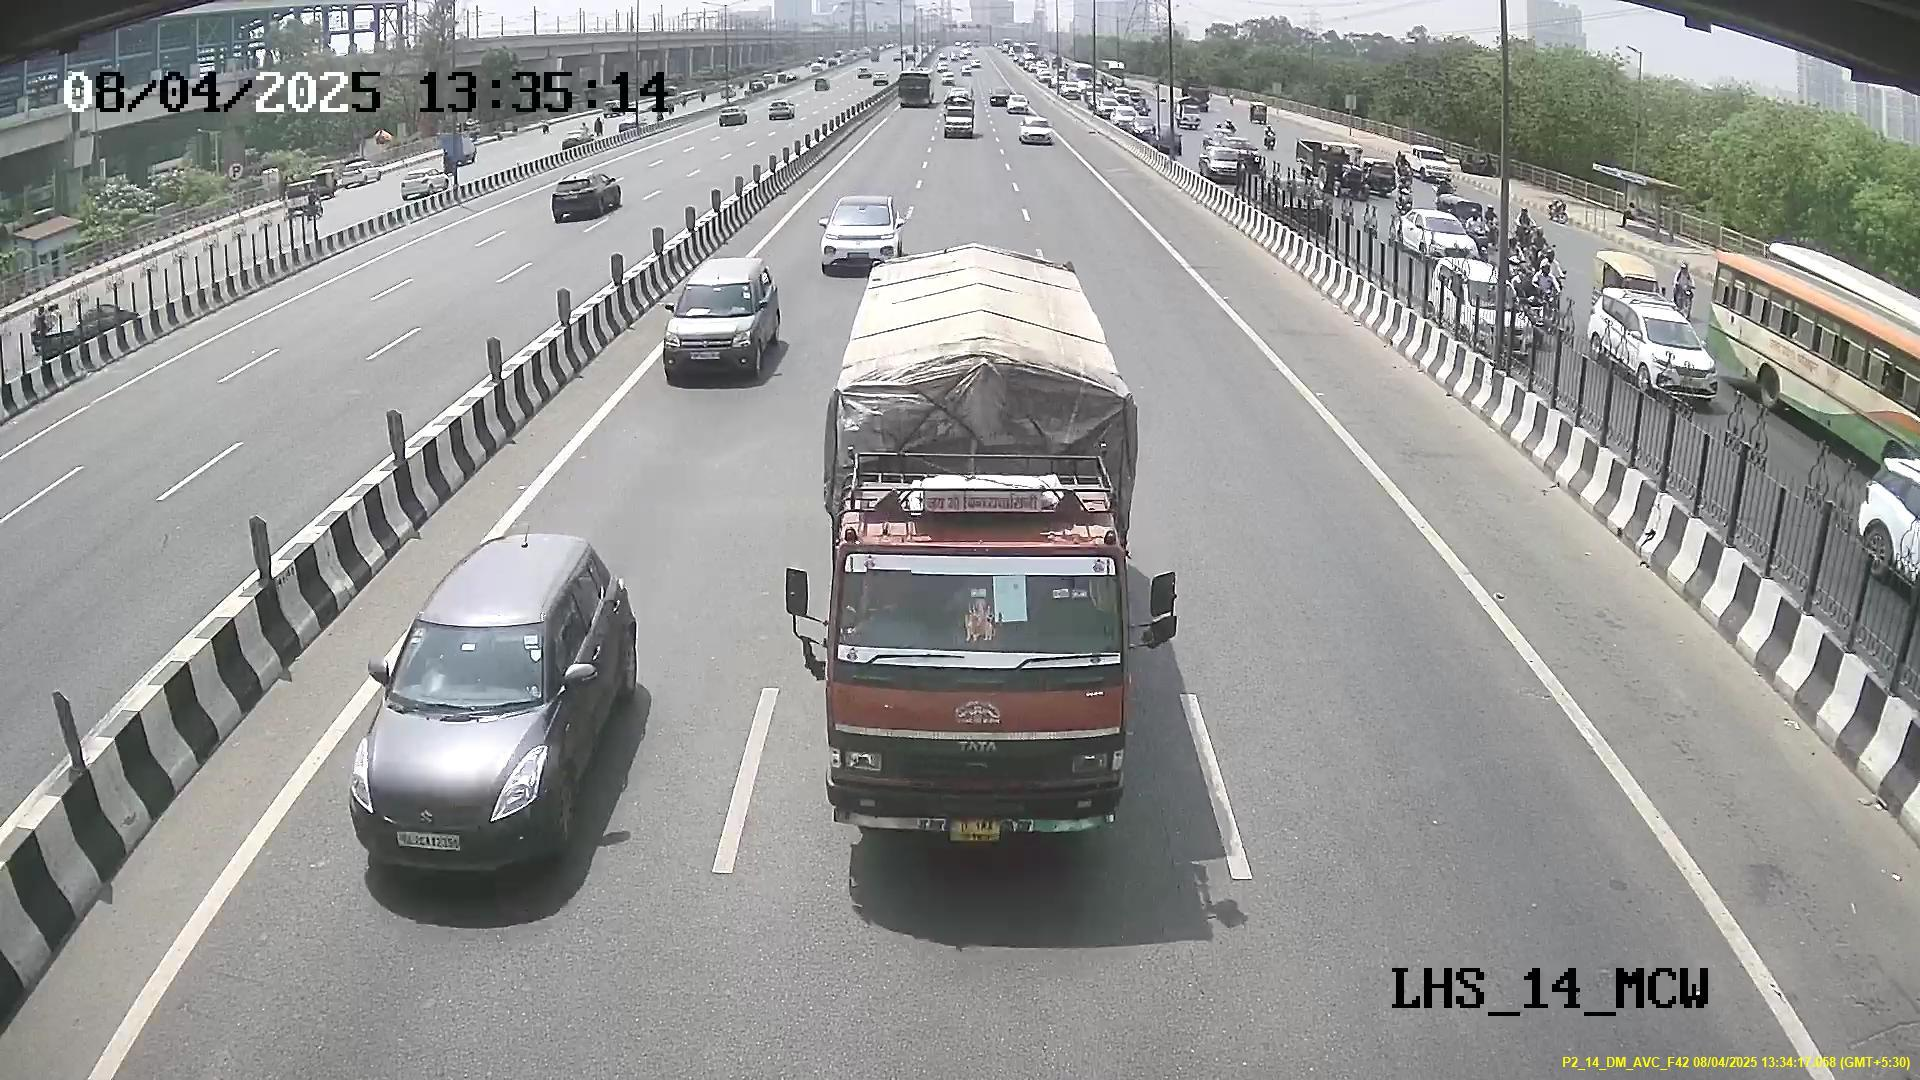car: (349, 591, 611, 882), (662, 264, 777, 384), (818, 194, 903, 274)
lcv: (818, 516, 1127, 847)
